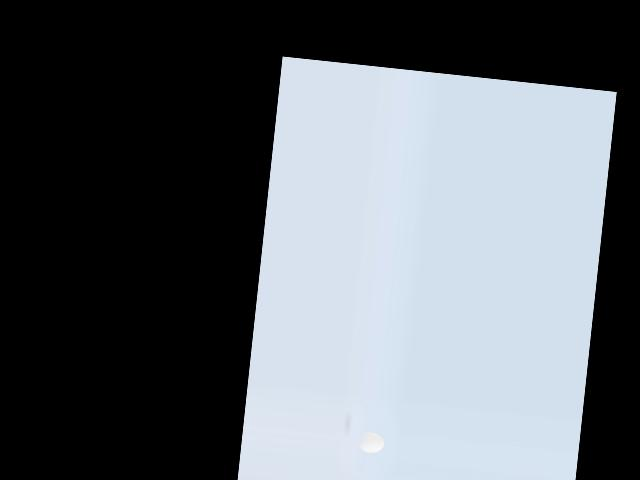egg: (357, 431, 385, 454)
